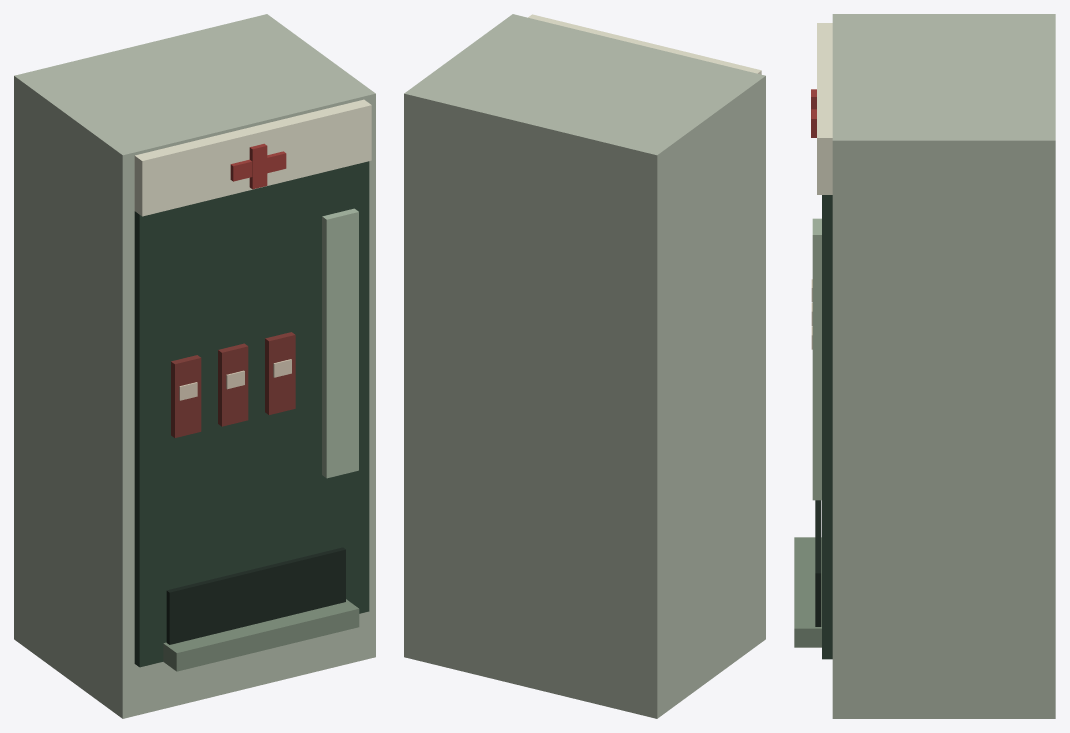
File: CMU3DBloodVendor.glb
3 views of the same model, side by side, from view 1: azimuth 30°, elevation 25°; view 2: azimuth 150°, elevation 25°; view 3: azimuth 270°, elevation 25° (orthographic). The views are drawn at different scales.
Visible parts, largest first — view 1: cabinet, dark front, header, pickup recess, button bank, blood bag (×3), pickup ledge, cross horizontal, cross vertical; view 2: cabinet, header; view 3: cabinet, dark front, button bank, header, pickup ledge, pickup recess.
Boxes of the visible parts, left/top/right/bottom form: cabinet: left=14, top=14, right=375, bottom=718; dark front: left=134, top=161, right=369, bottom=667; header: left=134, top=99, right=371, bottom=216; pickup recess: left=166, top=547, right=345, bottom=644; button bank: left=322, top=208, right=358, bottom=478; blood bag (×3): left=171, top=332, right=295, bottom=437; pickup ledge: left=163, top=599, right=359, bottom=671; cross horizontal: left=230, top=151, right=286, bottom=181; cross vertical: left=249, top=143, right=267, bottom=189; cabinet: left=404, top=14, right=765, bottom=718; header: left=528, top=14, right=761, bottom=74; cabinet: left=832, top=14, right=1055, bottom=718; dark front: left=822, top=195, right=832, bottom=659; button bank: left=812, top=218, right=821, bottom=500; header: left=817, top=23, right=832, bottom=194; pickup ledge: left=794, top=537, right=821, bottom=647; pickup recess: left=815, top=500, right=821, bottom=626.
Bounding box in the file's own units: 0.86 × 1.83 × 0.75.
